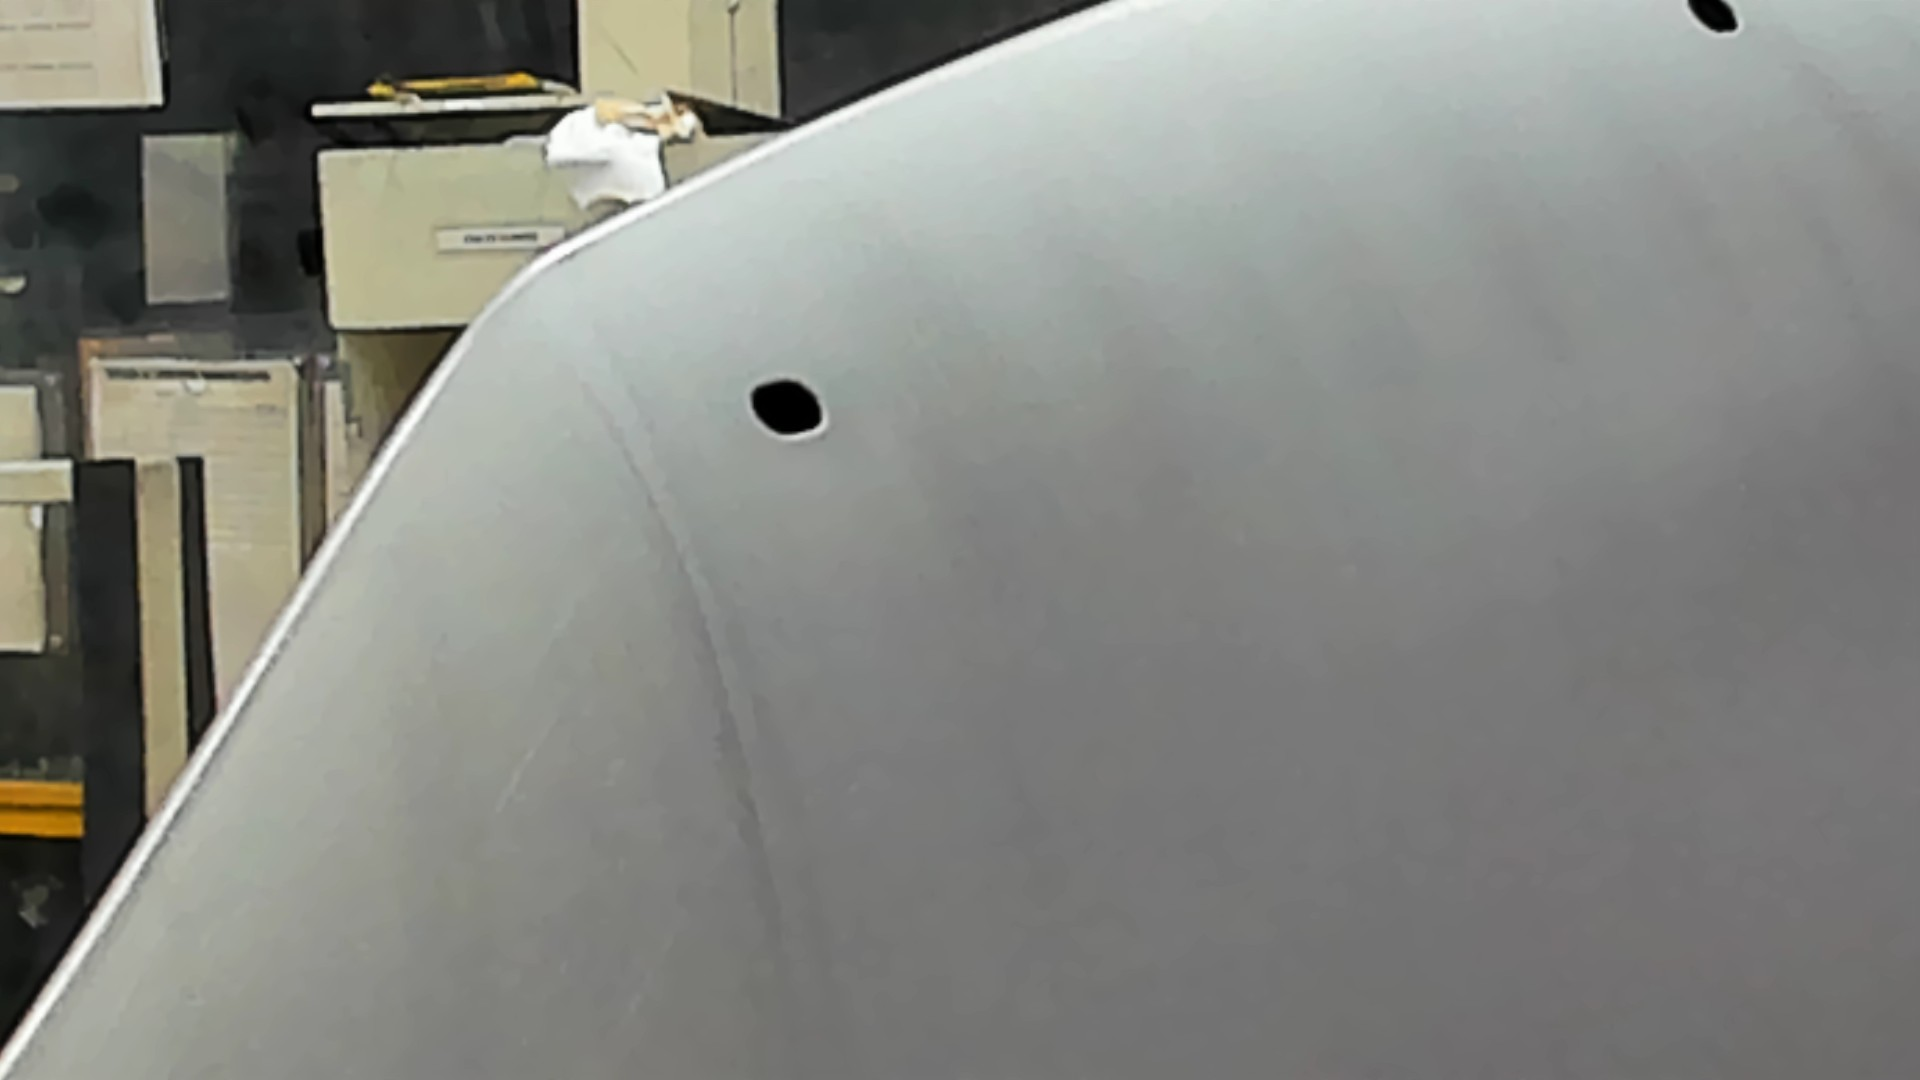Agujero: (741, 372, 833, 444), (1679, 1, 1749, 42)
